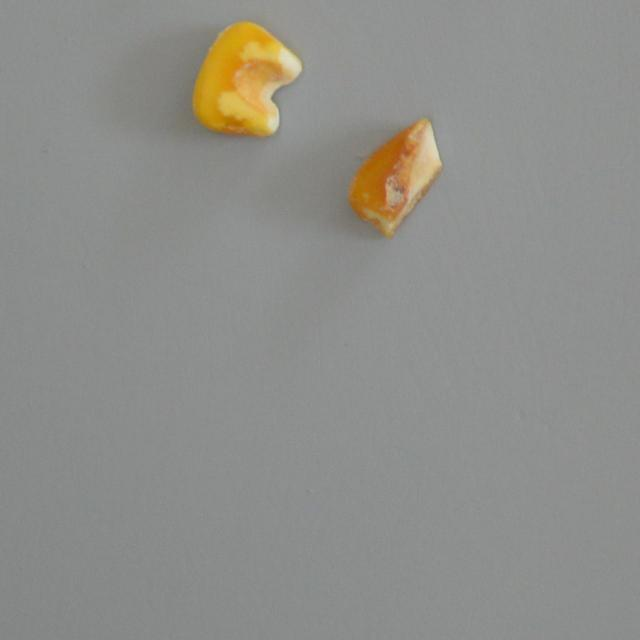dañado: (187, 18, 303, 145), (342, 112, 440, 240)
